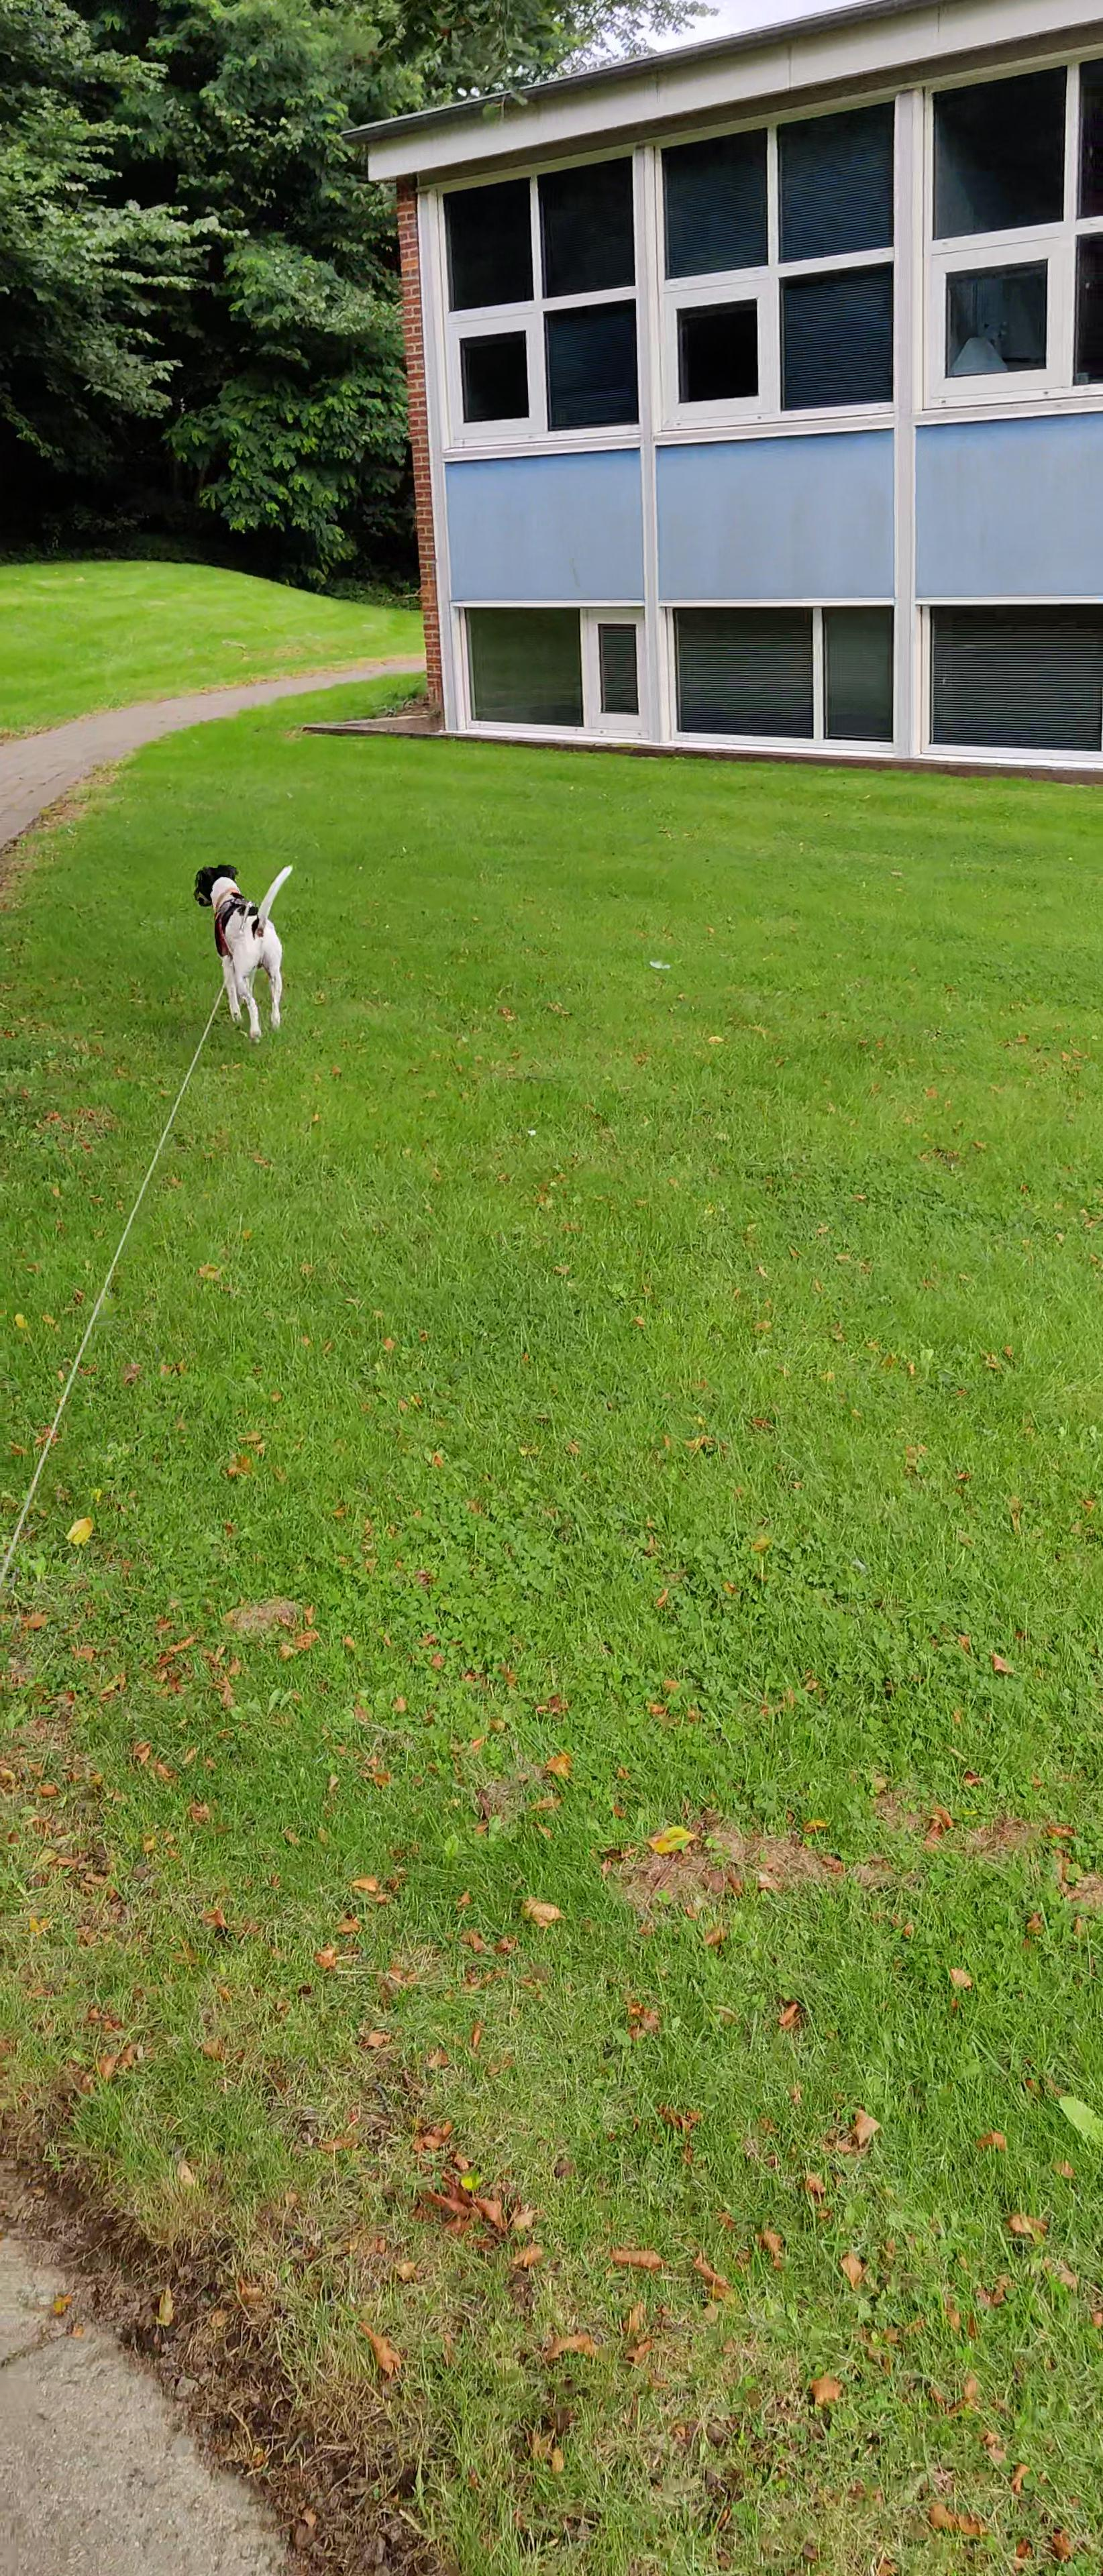Dog: (178, 846, 311, 1046)
